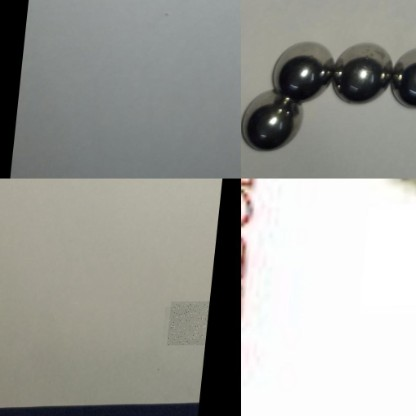ironball: (332, 34, 390, 105), (242, 90, 302, 155), (274, 38, 333, 99), (384, 38, 414, 110)
